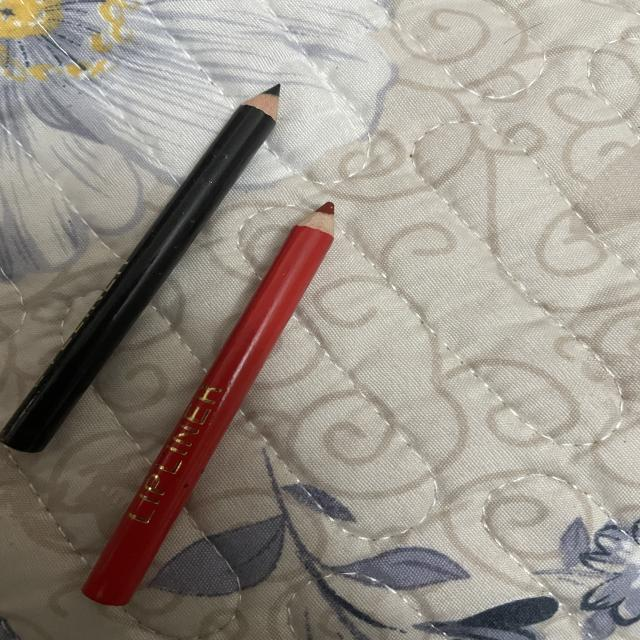eye liner: (53, 38, 311, 210)
lip liner: (233, 186, 356, 354)
